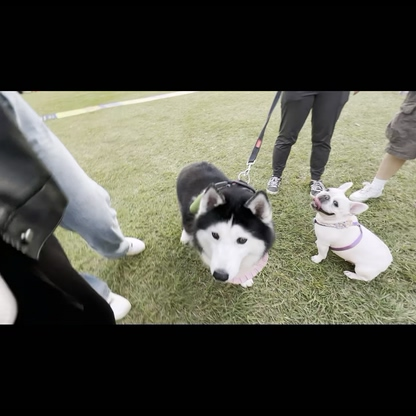bulldog: (308, 179, 397, 288)
husky: (168, 157, 281, 297)
